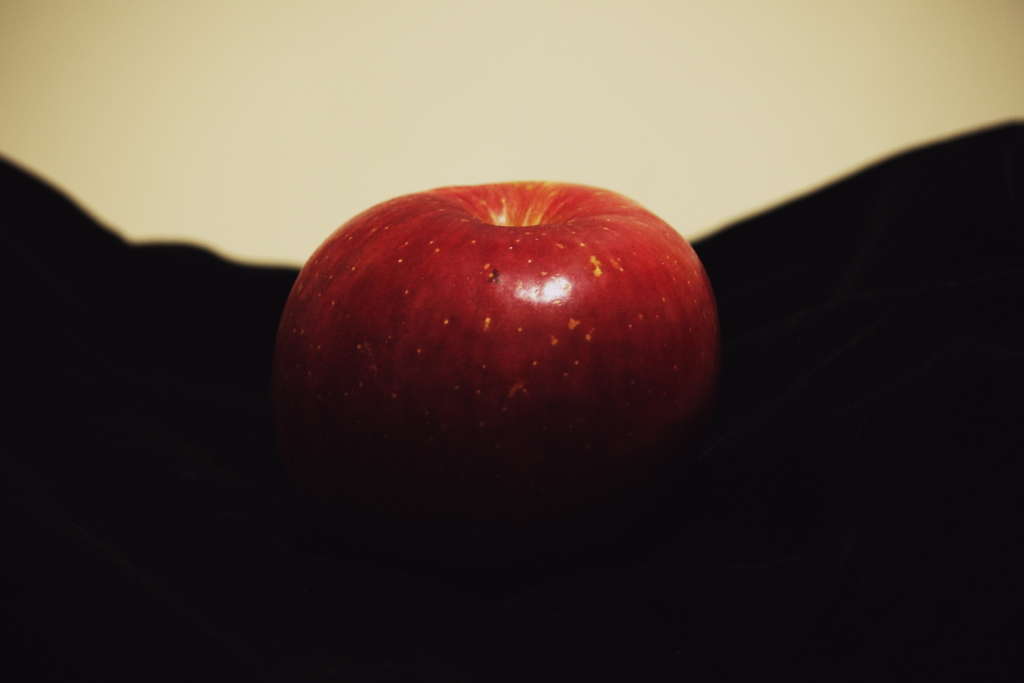Apple: (275, 156, 742, 559)
